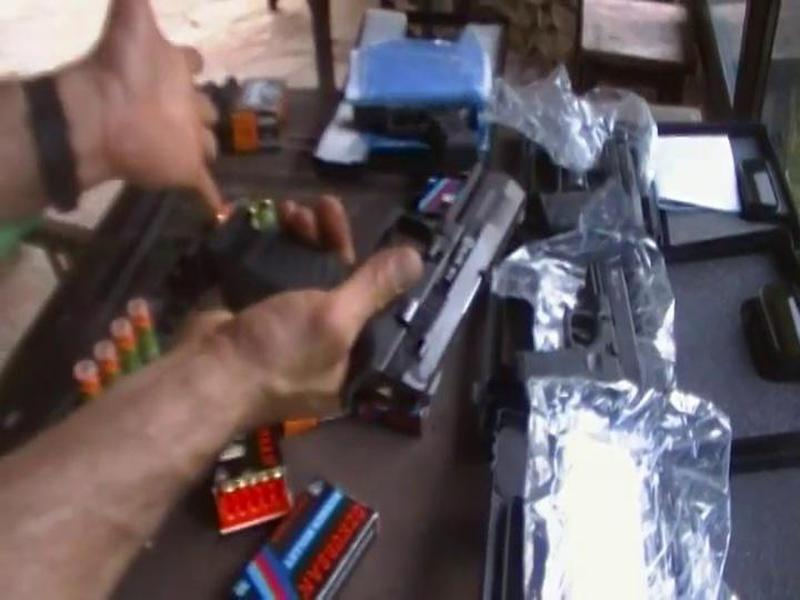Pistola: (235, 163, 544, 447)
